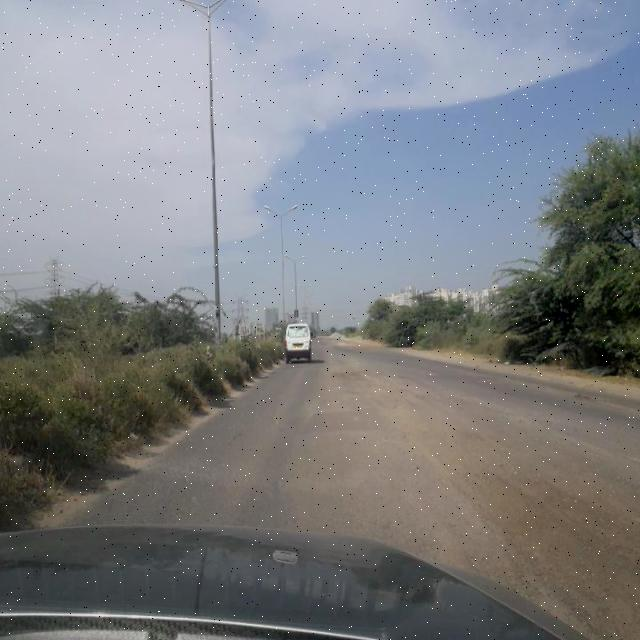D40: (329, 364, 449, 412)
